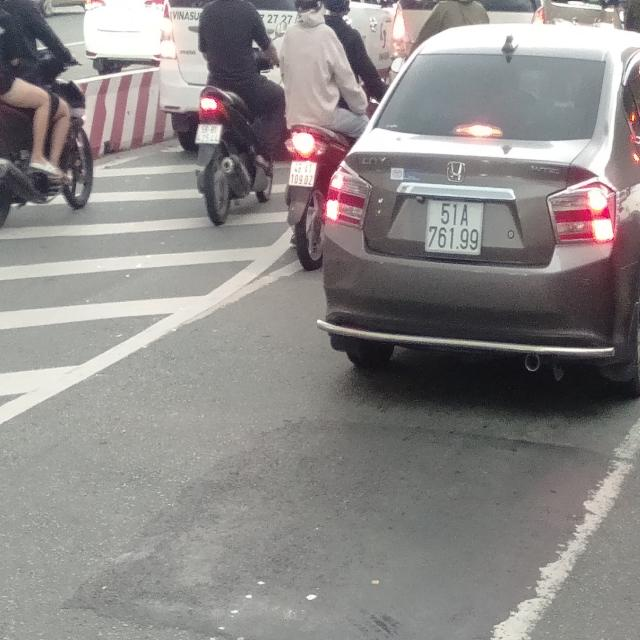bien_trang: (422, 198, 481, 259)
